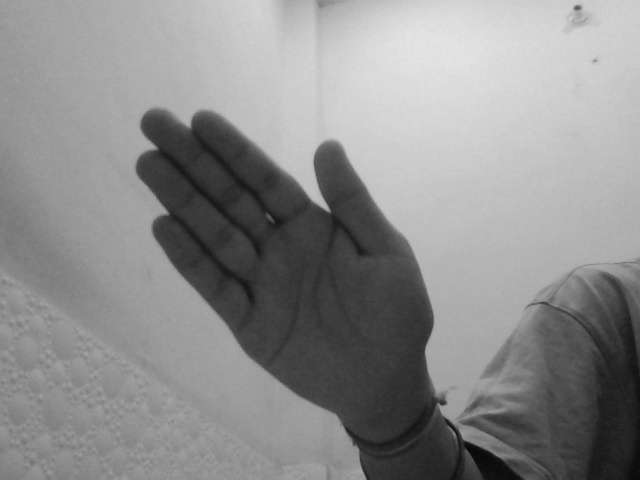Hello: (131, 103, 436, 419)
